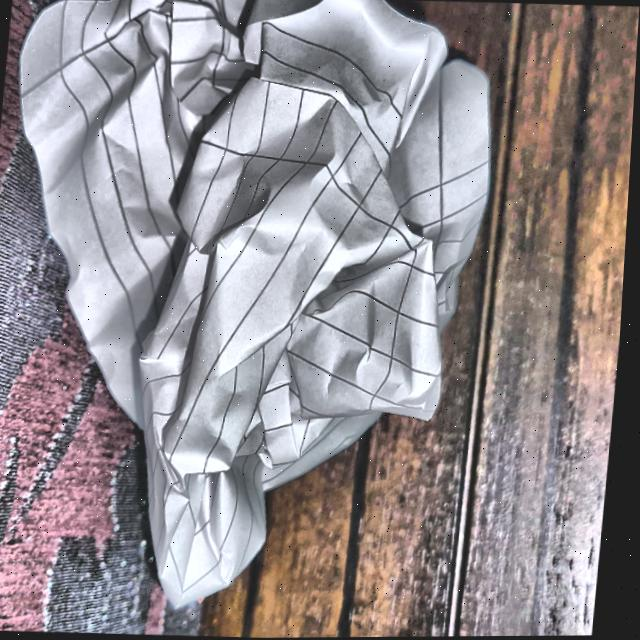paper: (0, 0, 500, 638)
